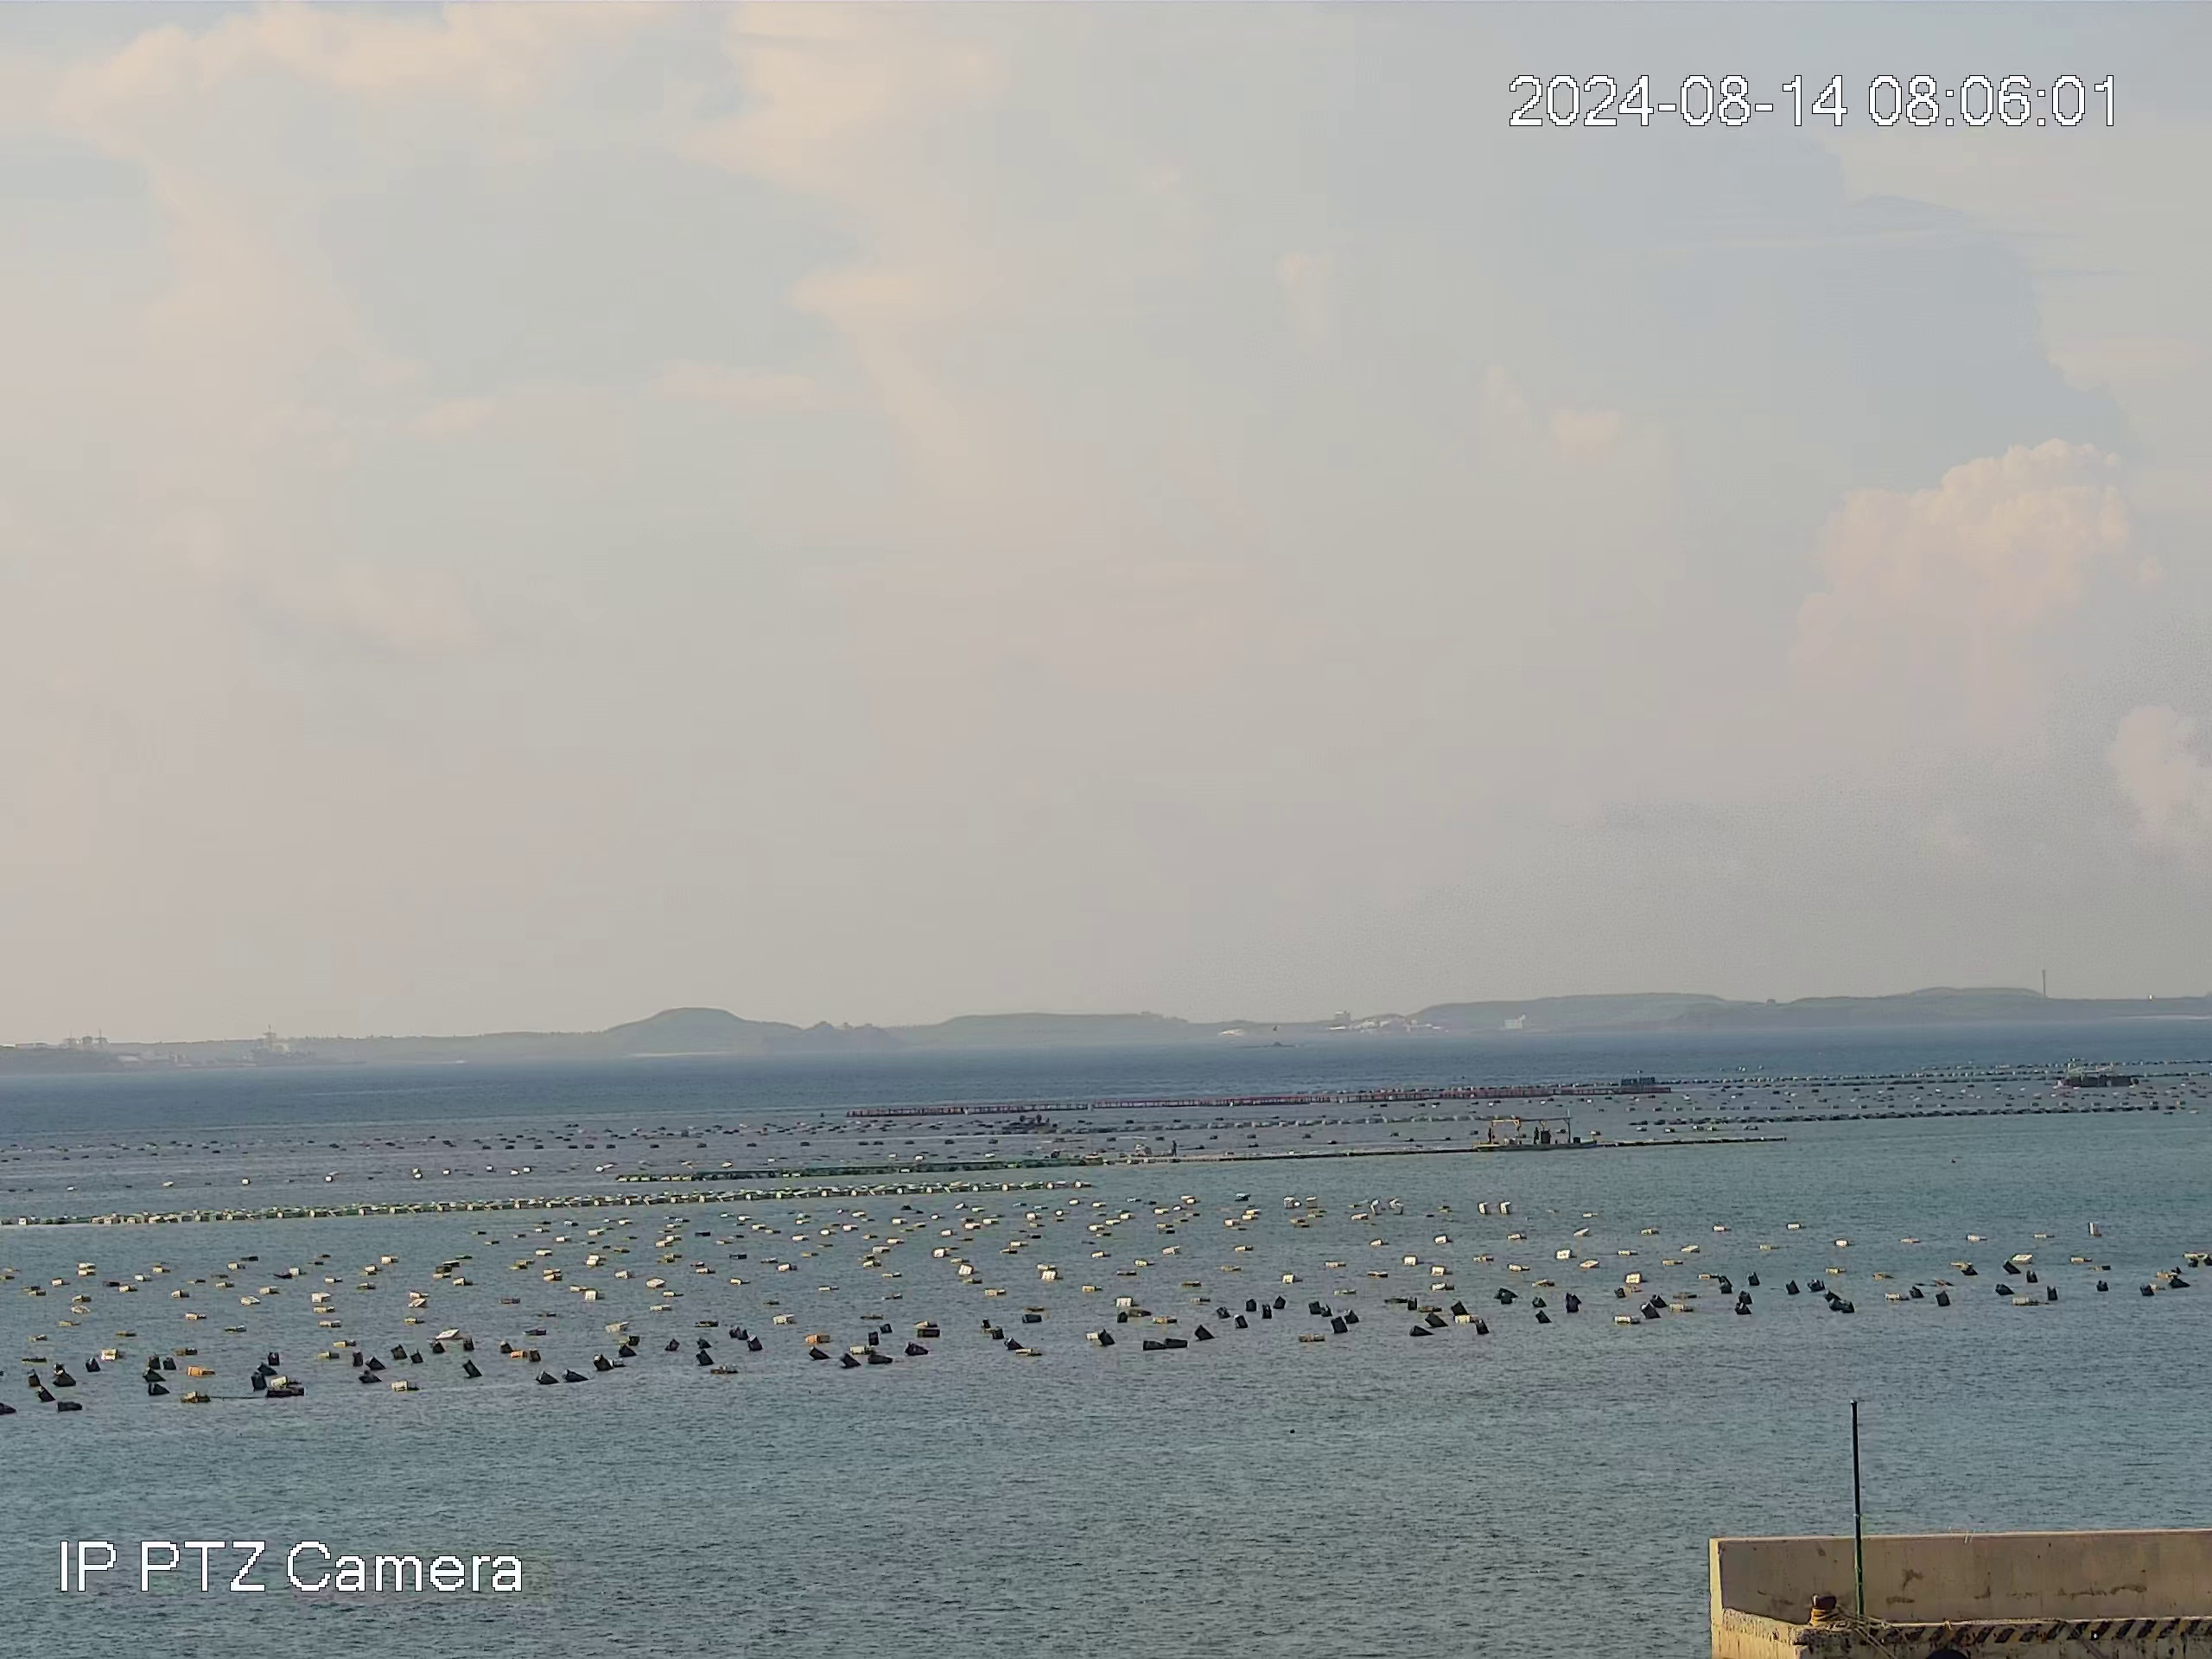boat: (1471, 1110, 1600, 1149), (2052, 1060, 2148, 1095)
